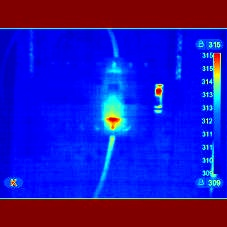Critical: (102, 116, 126, 129)
